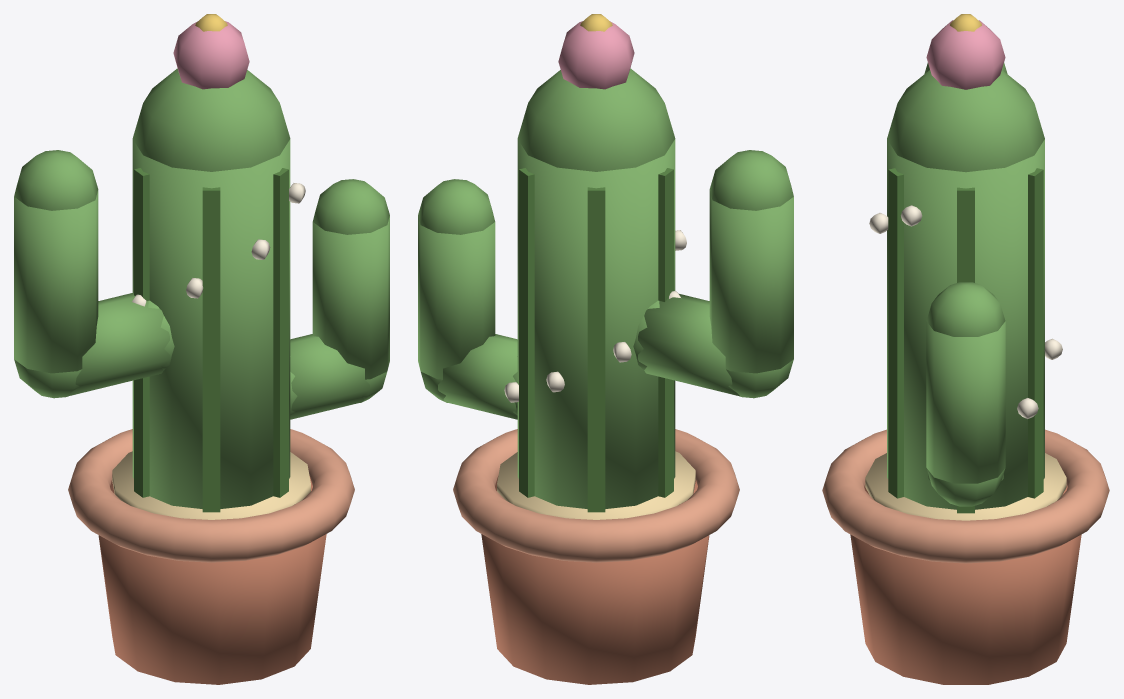
The model's file is cactus.glb.
3 views of the same model, side by side, from view 1: azimuth 30°, elevation 25°; view 2: azimuth 150°, elevation 25°; view 3: azimuth 270°, elevation 25° (orthographic).
Visible parts, largest first — view 1: cactus; view 2: cactus; view 3: cactus.
Part boxes in pixels (x1,y1,x2,y2): cactus: [14, 14, 389, 684]; cactus: [418, 14, 793, 684]; cactus: [822, 14, 1109, 684].
Bounding box in the file's own units: 1.17 × 1.93 × 0.8.
